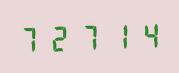four: (130, 18, 157, 50)
one: (102, 19, 129, 51)
seven: (18, 22, 45, 54), (74, 20, 101, 52)
two: (46, 21, 73, 53)
